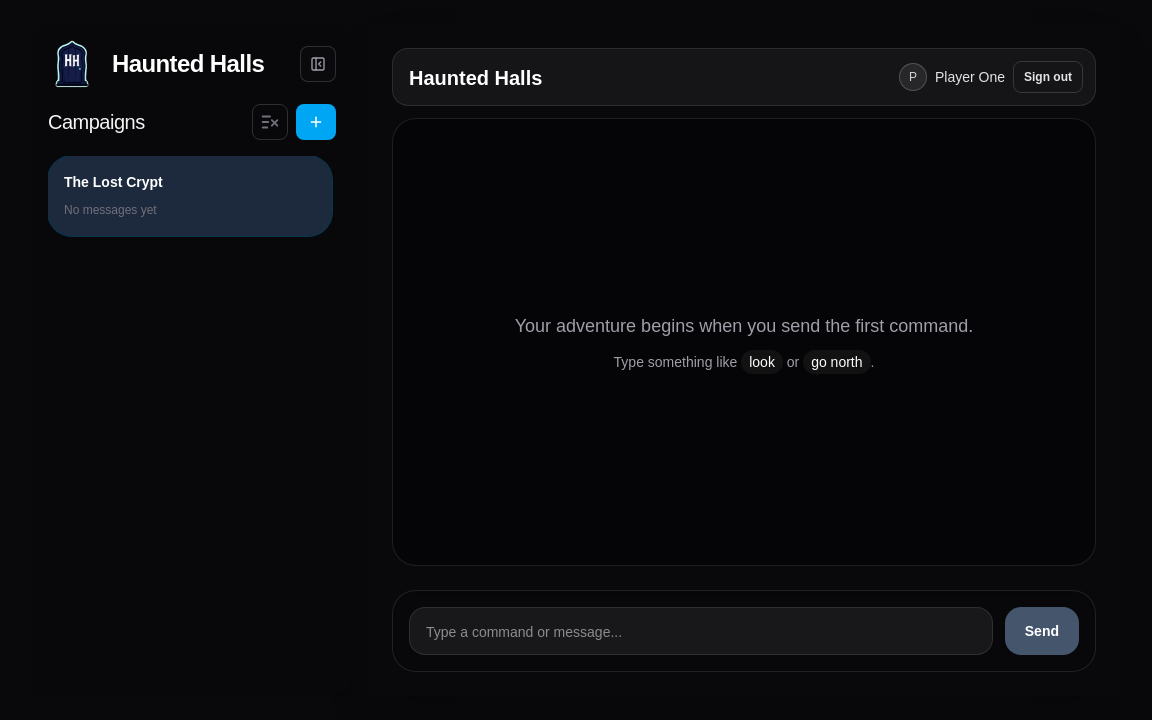
Test: home auth gating › keeps a 429 failure on the player message and retries without changing the draft
This screenshot has width=1152, height=720.
Type "search behind the bookshelf" into the text box named "Enter your command". click: point(701, 631)
box: [409,607,993,655]
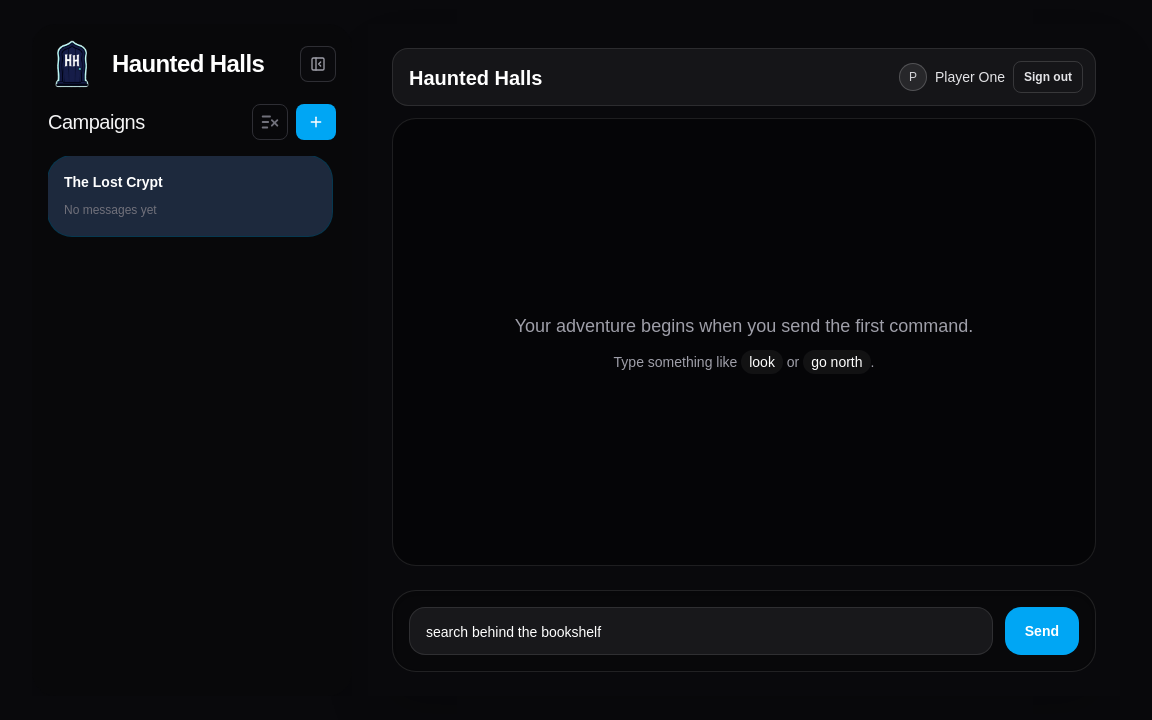
Click the button "Send". click: point(1042, 631)
box: [1005,607,1079,655]
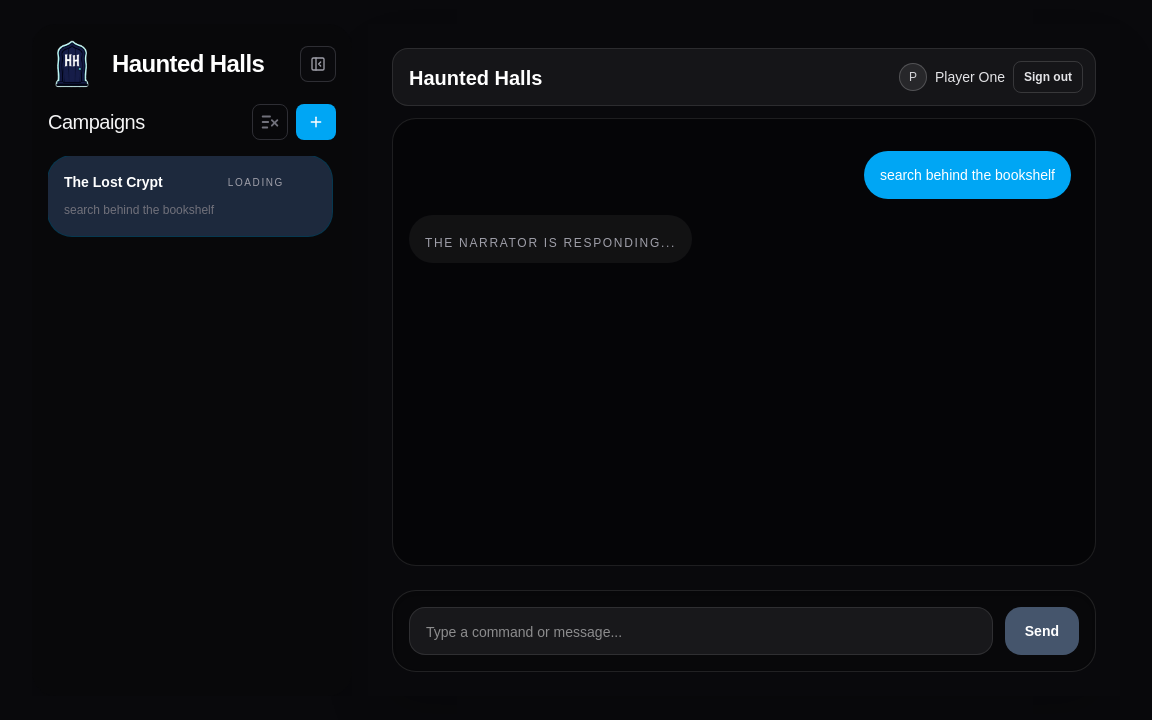
Type "go north" into the text box named "Enter your command". click: point(701, 631)
box: [409,607,993,655]
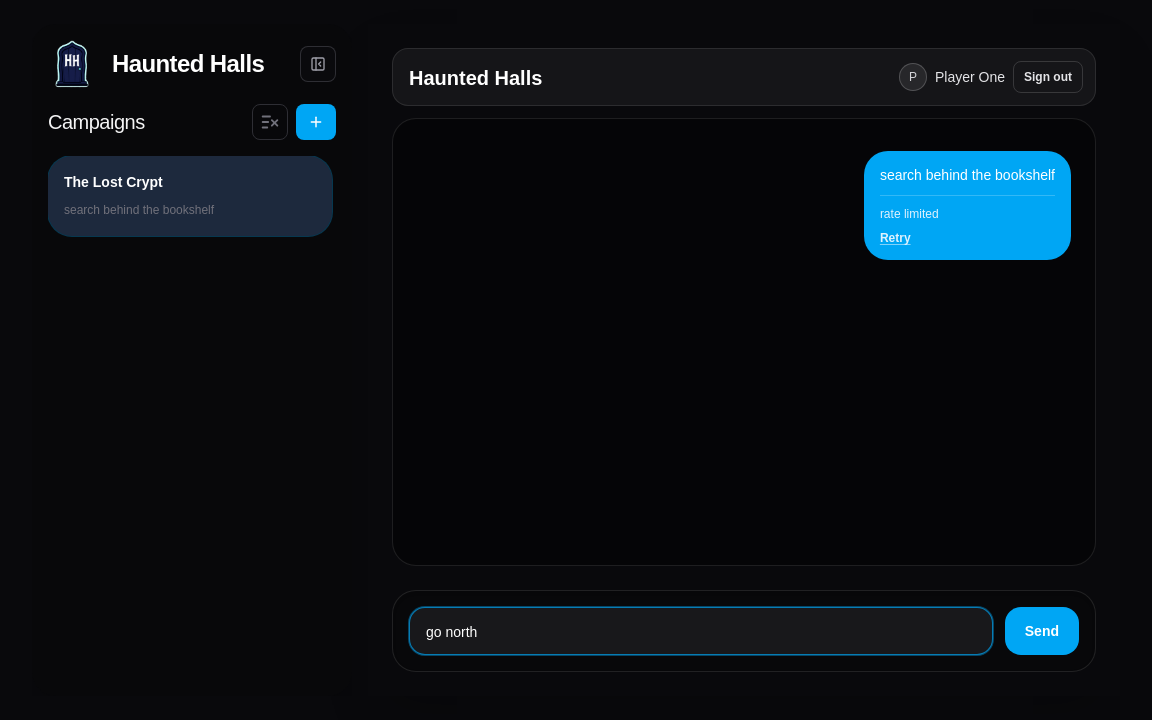
Check: the button with aria-label "Retry sending" is enabled
Check: the text "search behind the bookshelf" is shown 2 times, box [64,203,214,217]; [880,163,1055,187]
Check: the text "The narrator is responding..." is gone
Click the button with aria-label "Retry sending". click: point(895, 238)
box: [880,228,911,248]
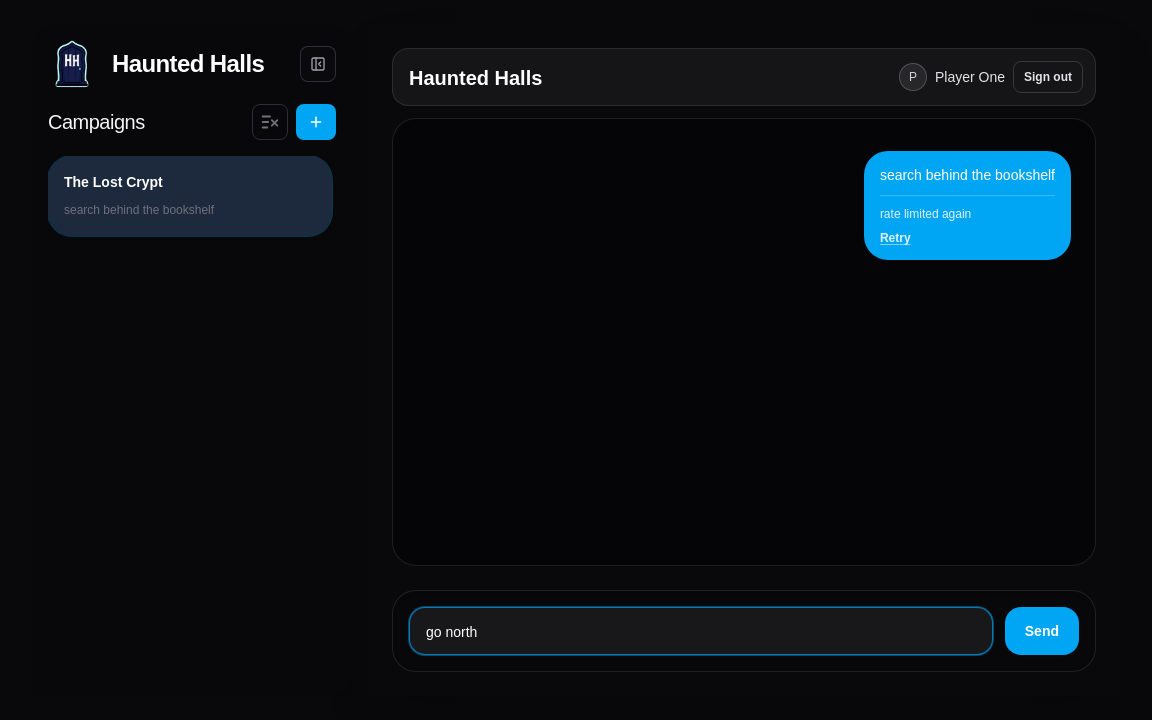
Check: the button with aria-label "Retry sending" is enabled
Check: the text "search behind the bookshelf" is shown 2 times, box [64,203,214,217]; [880,163,1055,187]
Click the button with aria-label "Retry sending". click: point(895, 238)
box: [880,228,911,248]
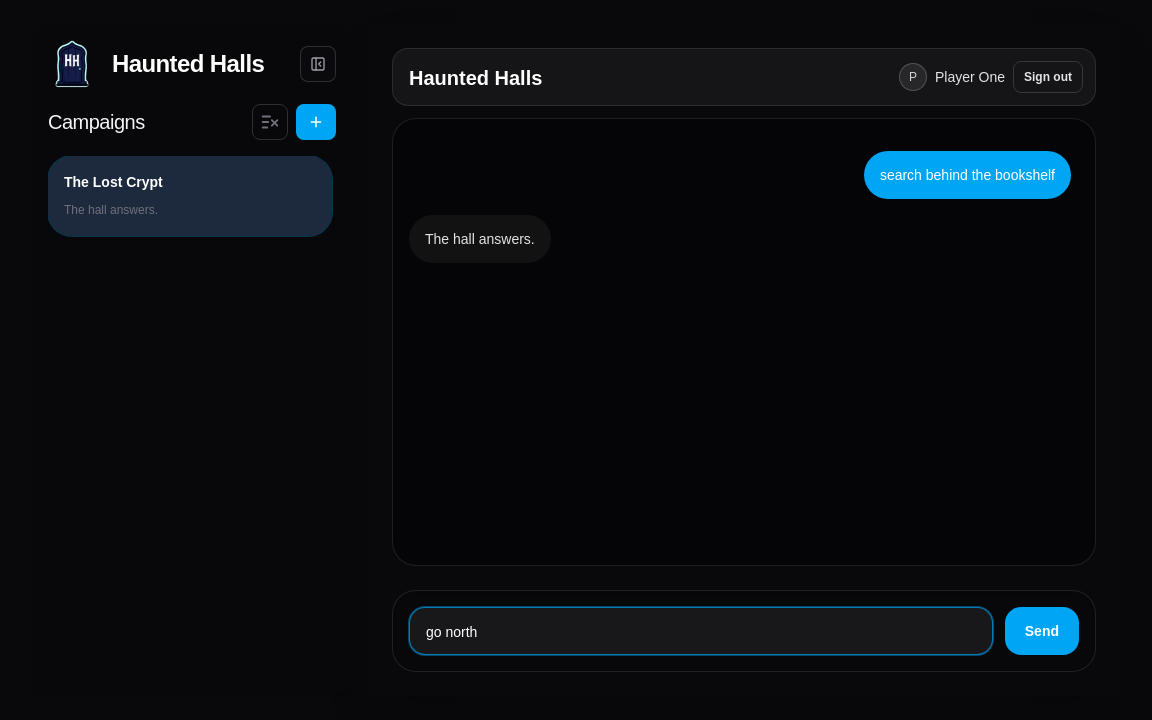
Check: the text "search behind the bookshelf" is shown once, box [880,163,1055,187]
